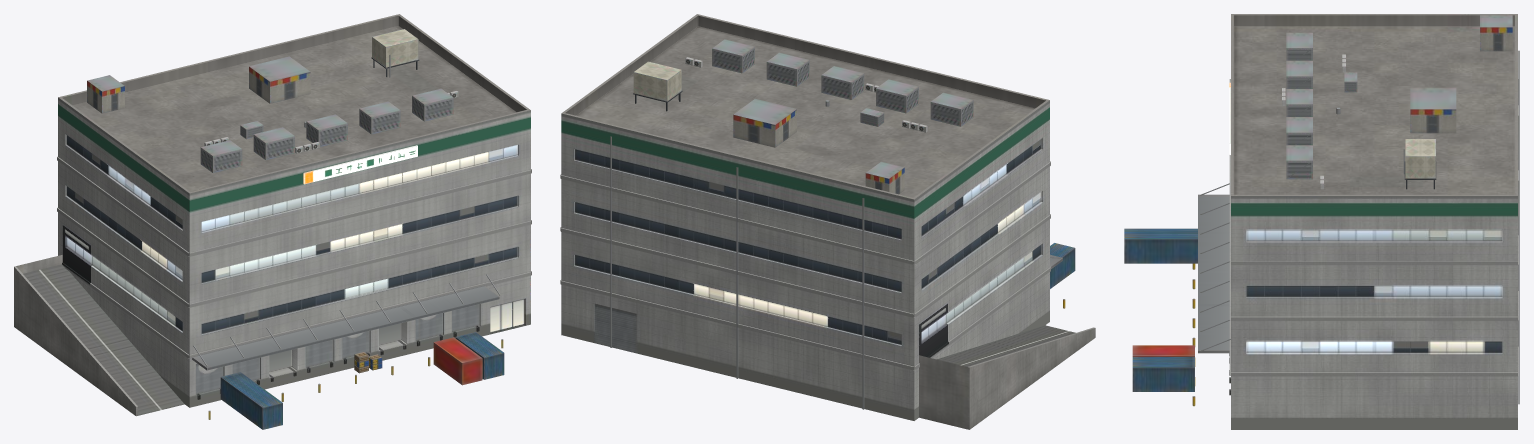
Rendered from tokyo_warehouse_c.glb.
3 renders of one model, left to right at view 1: azimuth 30°, elevation 25°; view 2: azimuth 150°, elevation 25°; view 3: azimuth 270°, elevation 25°, orthographic. The views are drawn at different scales.
Parts seen in each view (by area): view 1: tokyo_warehouse_c; view 2: tokyo_warehouse_c; view 3: tokyo_warehouse_c.
Boxes of the visible parts, <box> form: tokyo_warehouse_c: <box>14,14,531,429</box>; tokyo_warehouse_c: <box>560,14,1095,429</box>; tokyo_warehouse_c: <box>1124,14,1519,429</box>.
Bounding box in the file's own units: 48.12 × 27.6 × 38.57.
1 material, 1 textured.
